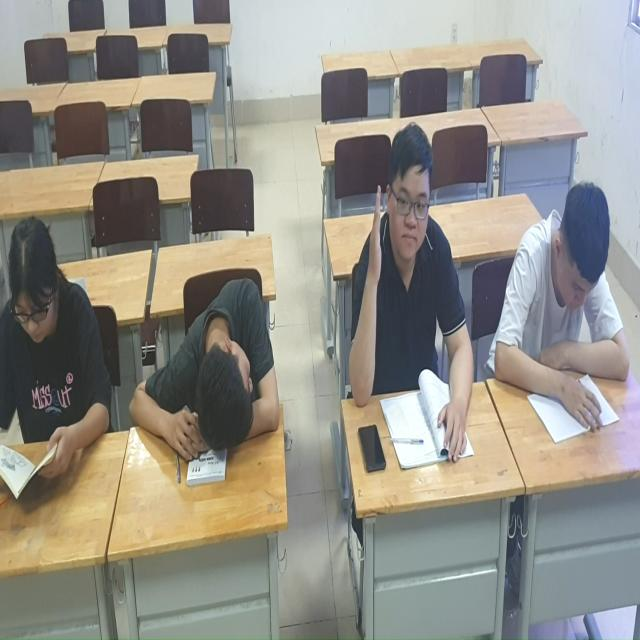raise_hand: (336, 101, 486, 488)
read: (499, 157, 636, 441), (1, 204, 128, 502)
sleep: (142, 282, 299, 488)
